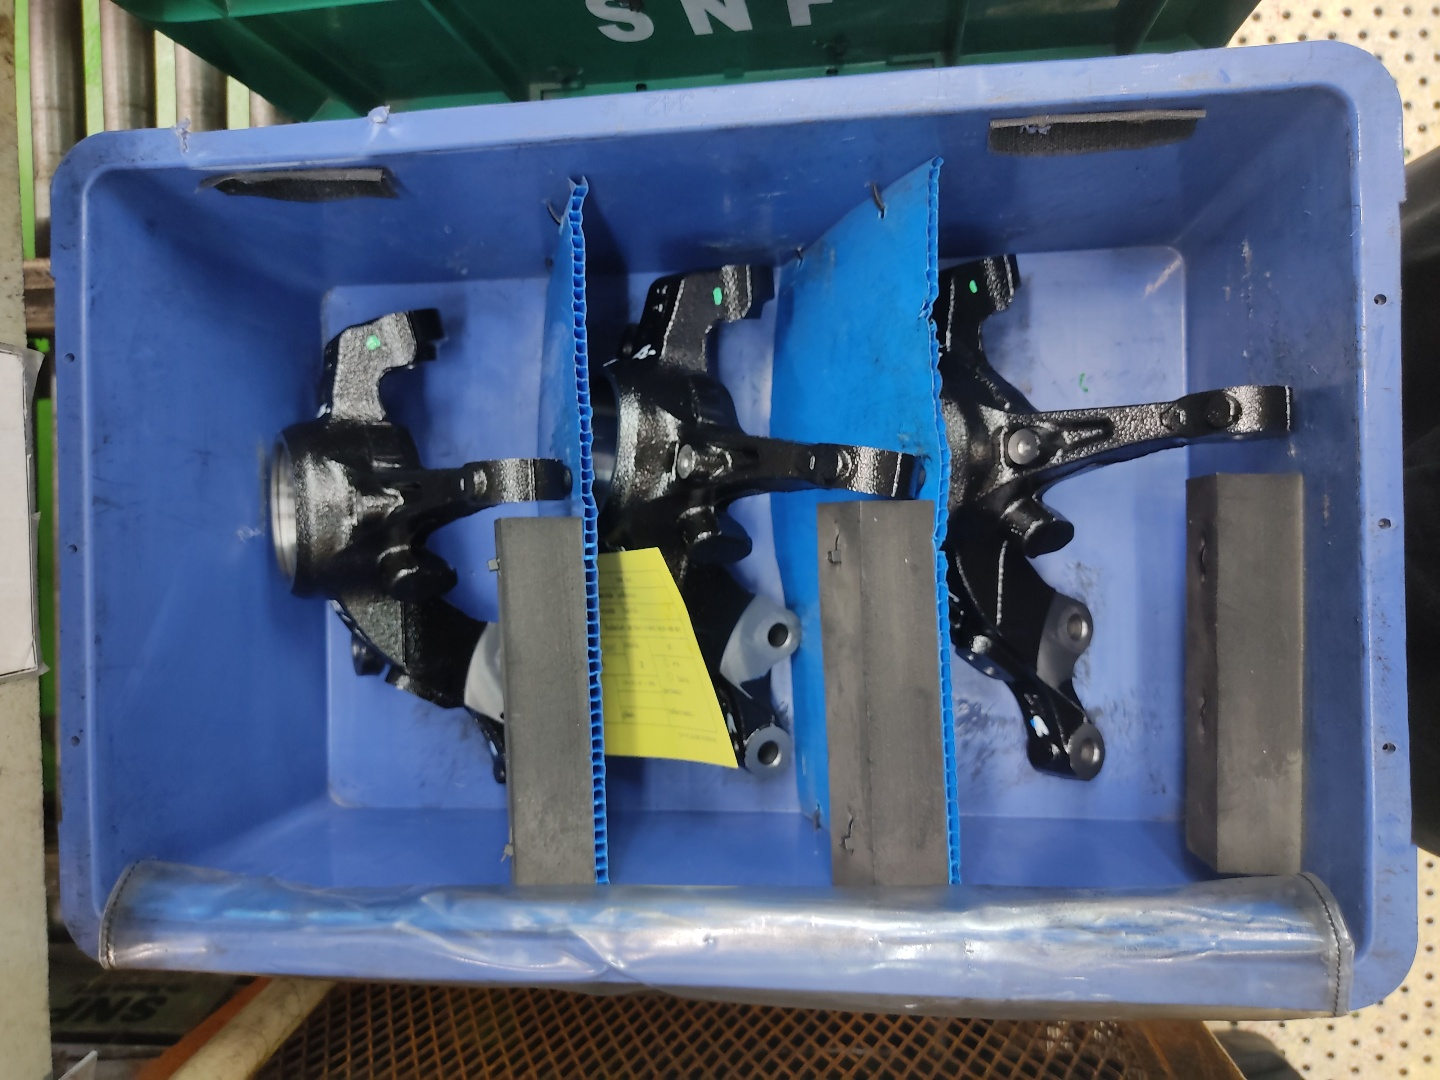non-rh: (931, 239, 1315, 796), (579, 255, 935, 788), (260, 296, 579, 803)
